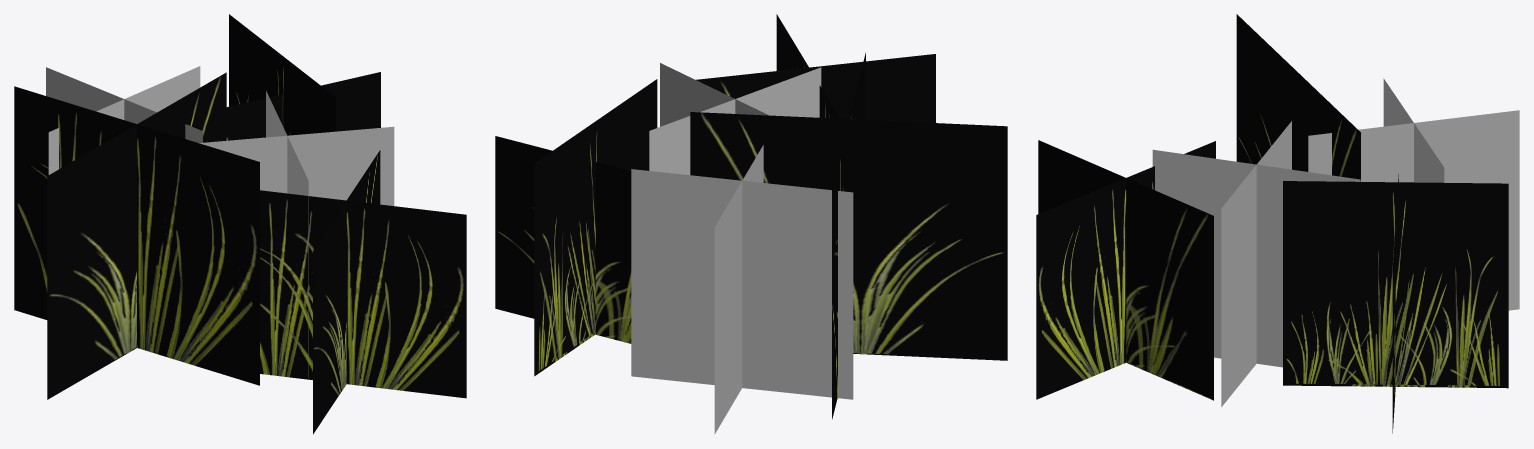
Rendered from grass_flower_patch4.fbx.
The picture shows the model from 3 angles, left to right: view 1: azimuth 30°, elevation 25°; view 2: azimuth 150°, elevation 25°; view 3: azimuth 270°, elevation 25°; orthographic projection. The views are drawn at different scales.
Parts seen in each view (by area): view 1: Plane.001, Plane.005; view 2: Plane.001, Plane.005; view 3: Plane.001, Plane.005.
Part boxes in pixels (box(x1,y1,x2,y2)): Plane.001: box(14, 14, 466, 434); Plane.005: box(46, 66, 394, 377); Plane.001: box(495, 14, 1007, 419); Plane.005: box(631, 63, 853, 434); Plane.001: box(1036, 14, 1508, 433); Plane.005: box(1152, 78, 1519, 406).
Bounding box in the file's own units: 38.13 × 20.15 × 38.58.
